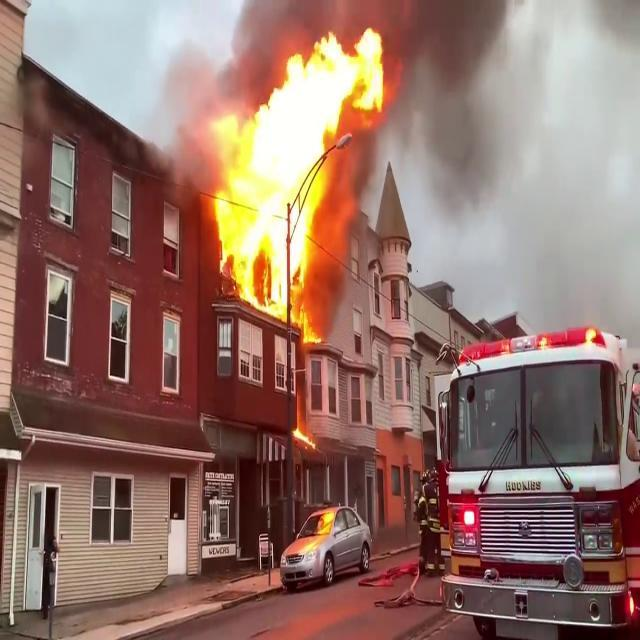Fire: (200, 12, 380, 324)
Smoke: (374, 0, 640, 343)
